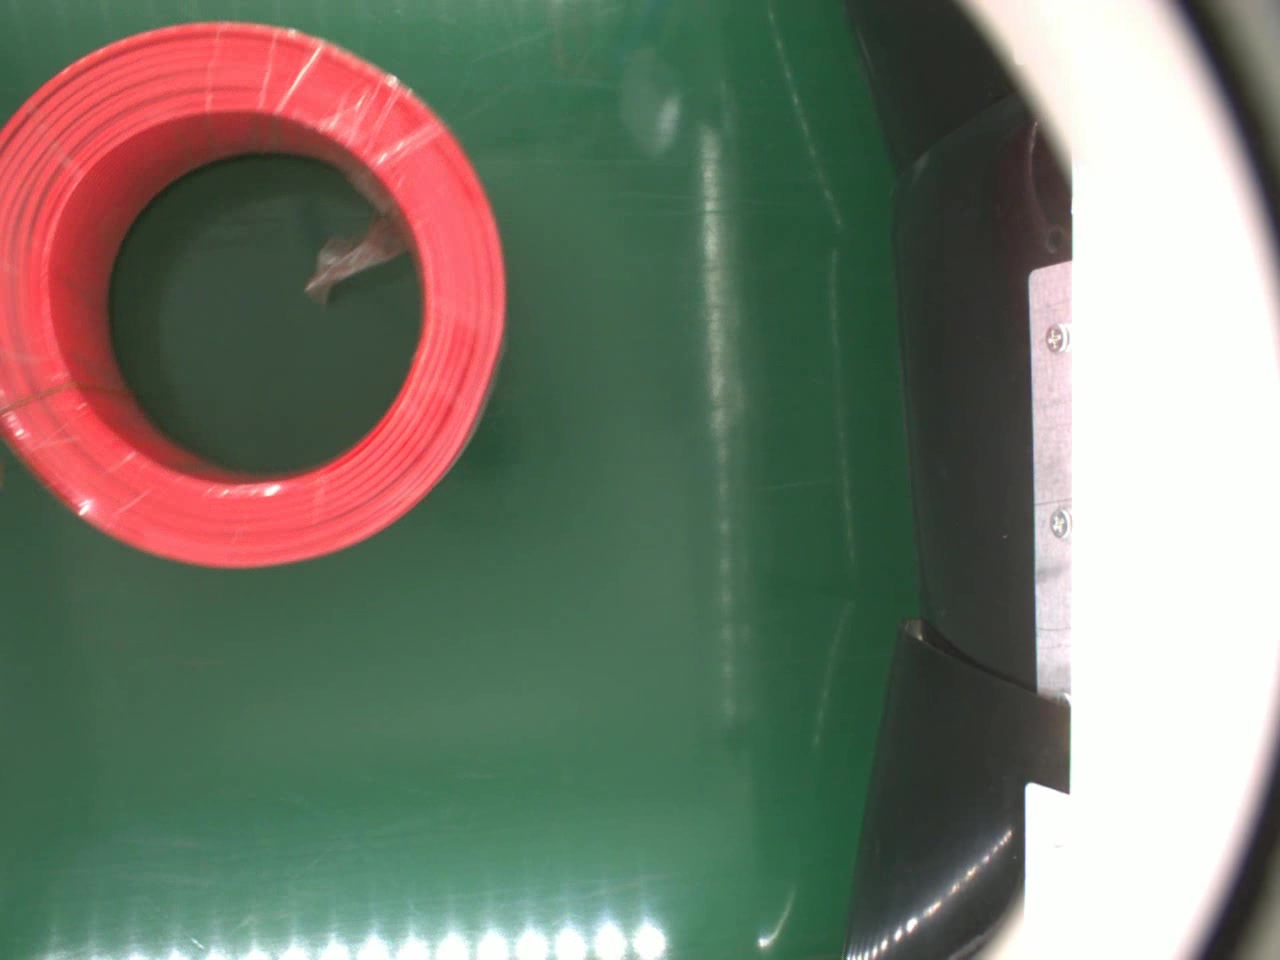red: (0, 20, 511, 570)
